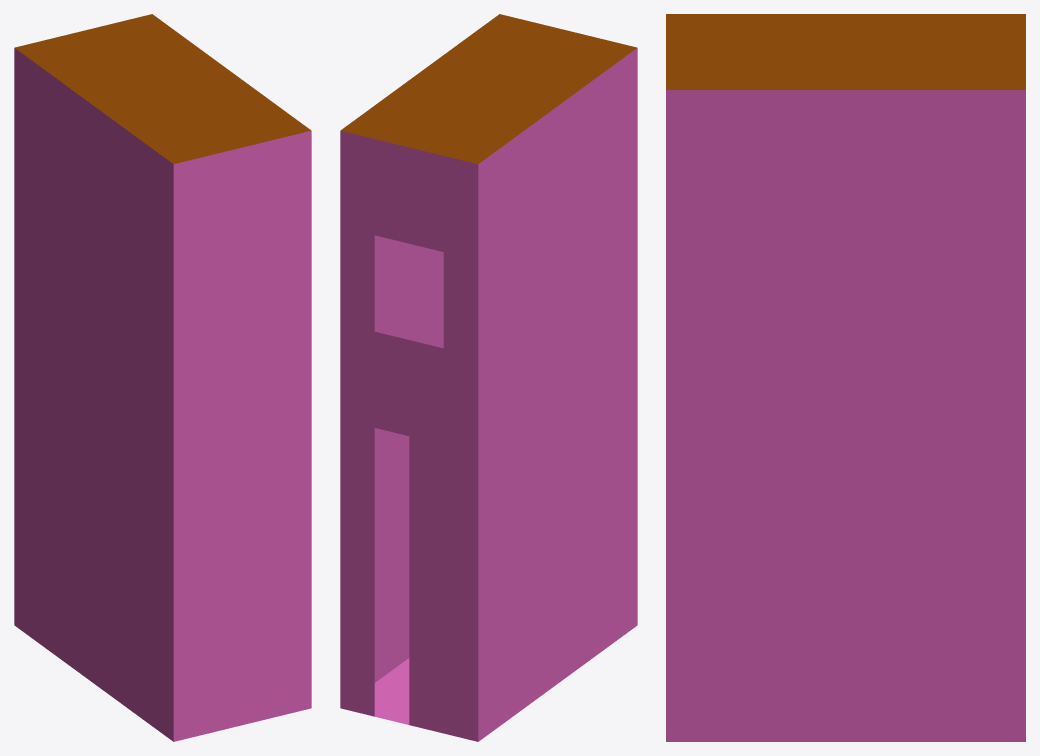
Rendered from pink6.gltf.
3 views of the same model, side by side, from view 1: azimuth 30°, elevation 25°; view 2: azimuth 150°, elevation 25°; view 3: azimuth 270°, elevation 25° (orthographic). The views are drawn at different scales.
Parts seen in each view (by area): view 1: Cube; view 2: Cube; view 3: Cube.
Boxes of the visible parts, x1=… form: Cube: x1=14, y1=14, x2=311, y2=741; Cube: x1=340, y1=14, x2=637, y2=741; Cube: x1=666, y1=14, x2=1025, y2=741.
Bounding box in the file's own units: 2 × 8 × 4.
